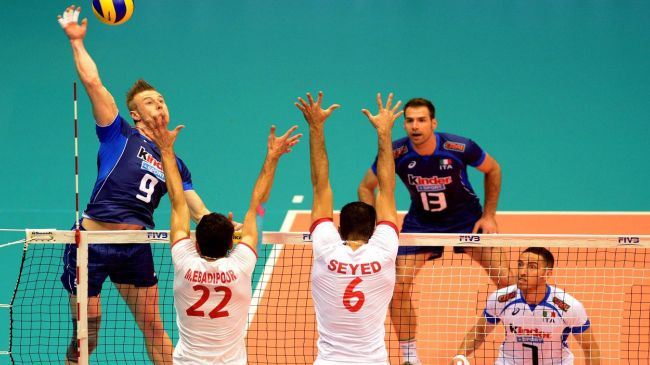volleyball: (90, 1, 136, 24)
